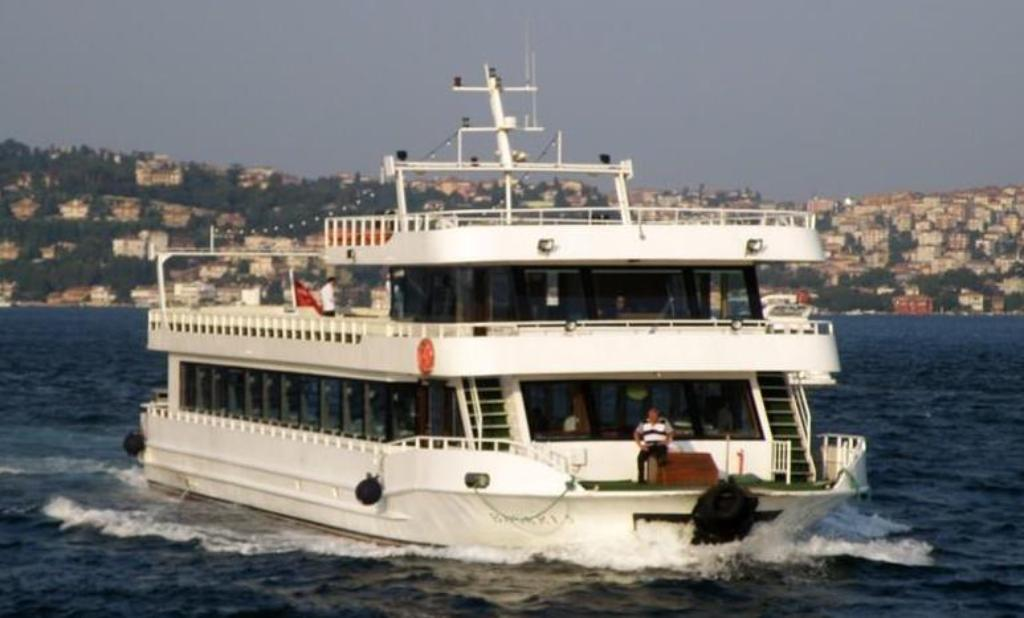PassengerShip: (106, 98, 880, 534)
